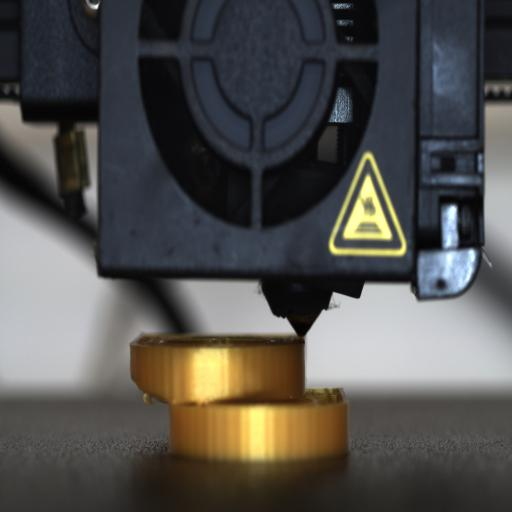layer_shift: (136, 379, 352, 410)
